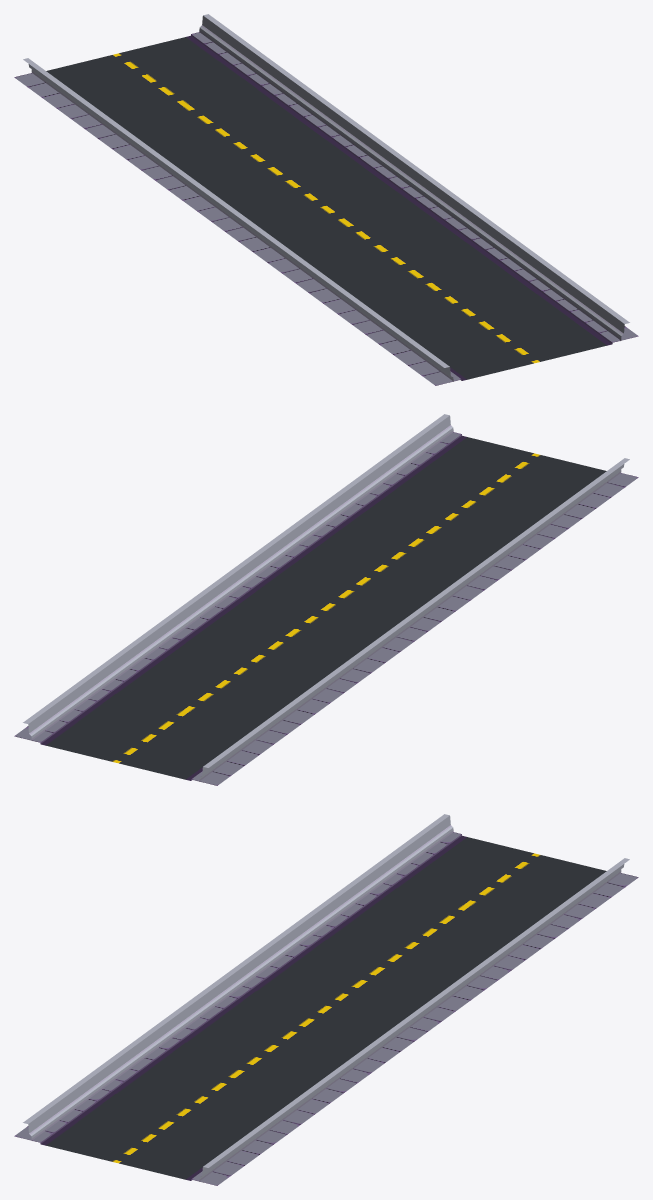
The model's file is Week4Map.fbx.
3 renders of one model, top to bottom at view 1: azimuth 30°, elevation 25°; view 2: azimuth 150°, elevation 25°; view 3: azimuth 330°, elevation 25°, orthographic.
Visible parts, largest first — view 1: Cube, Cube.001; view 2: Cube, Cube.001; view 3: Cube, Cube.001.
Boxes of the visible parts, left/top/right/bottom form: Cube: left=14, top=32, right=638, bottom=385; Cube.001: left=23, top=14, right=629, bottom=381; Cube: left=14, top=432, right=638, bottom=785; Cube.001: left=23, top=414, right=629, bottom=781; Cube: left=14, top=832, right=638, bottom=1185; Cube.001: left=23, top=814, right=629, bottom=1181.
Size of the model in its own units: 2478 by 201 by 8903.
